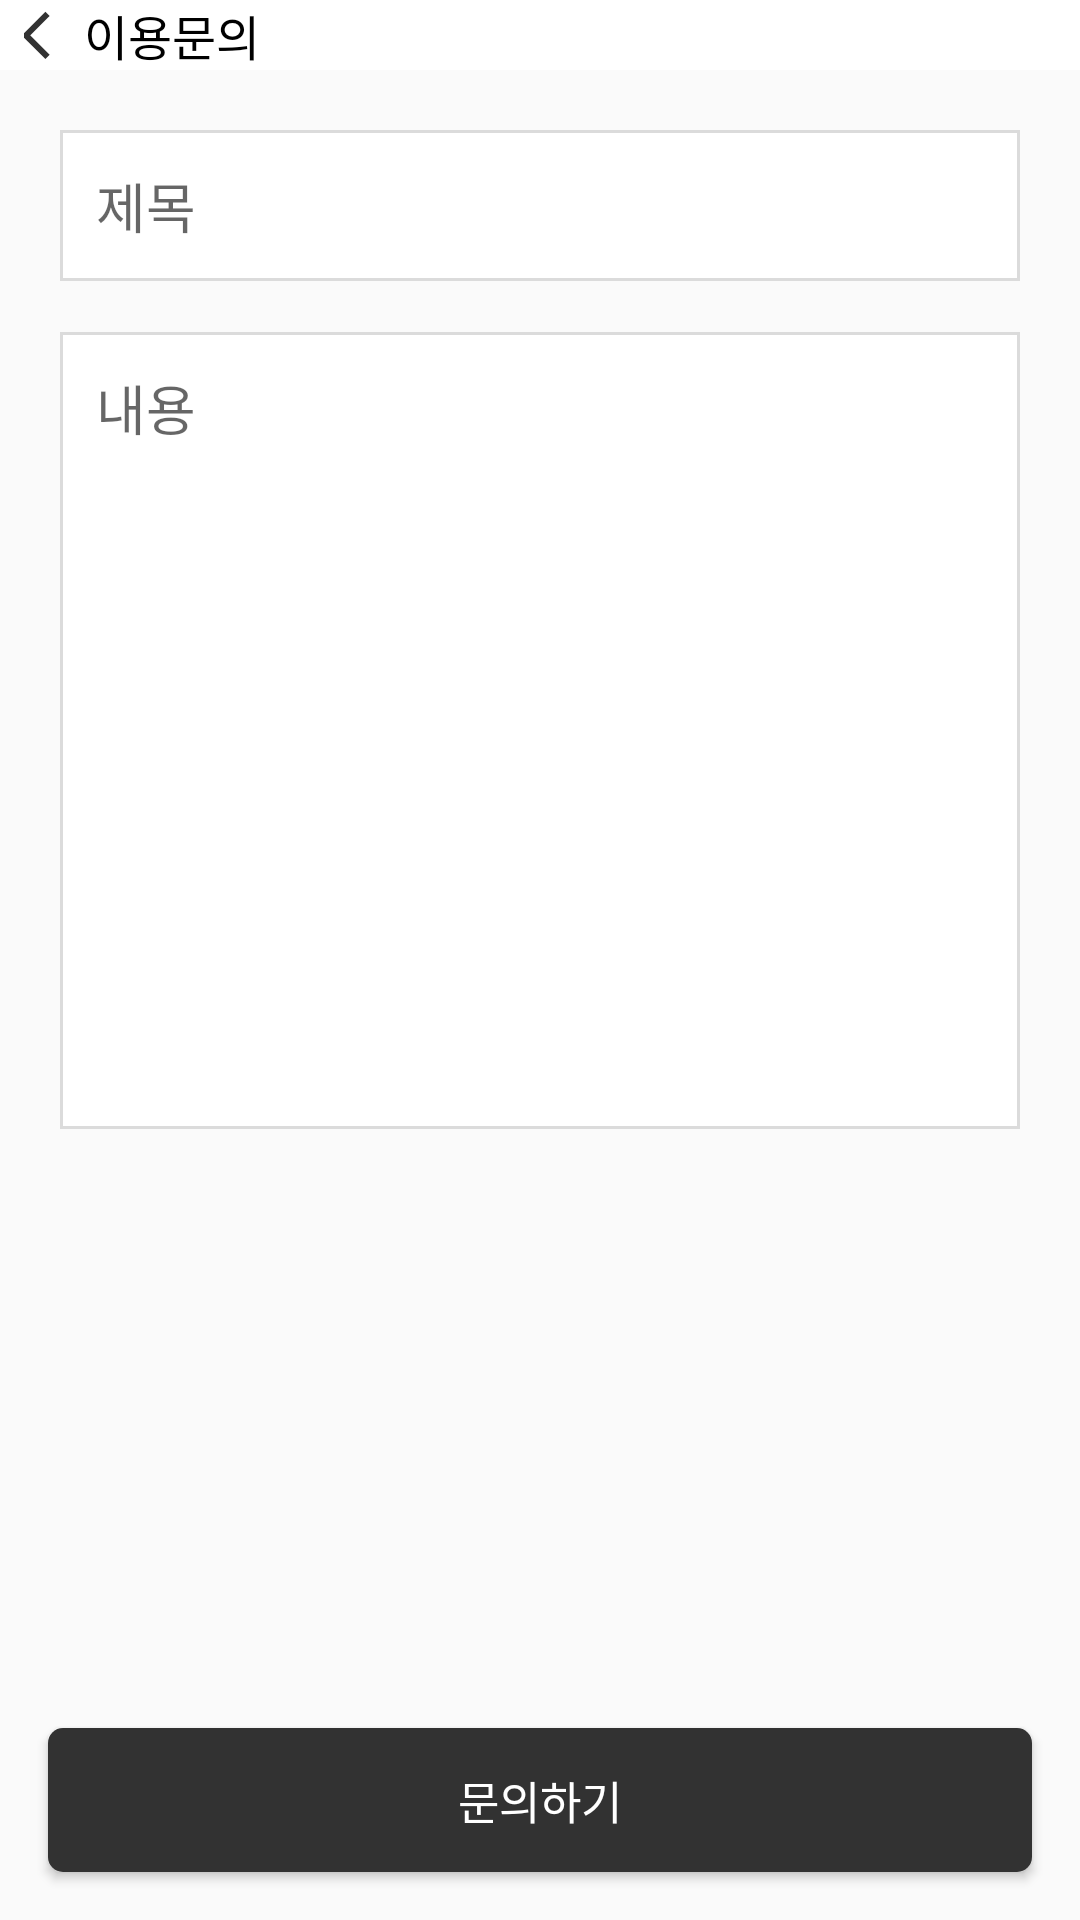

Screen size 1080w x 1920h. Icon name, then its center in pixels as (x=x, y=y):
back sharp: (x=37, y=35)
